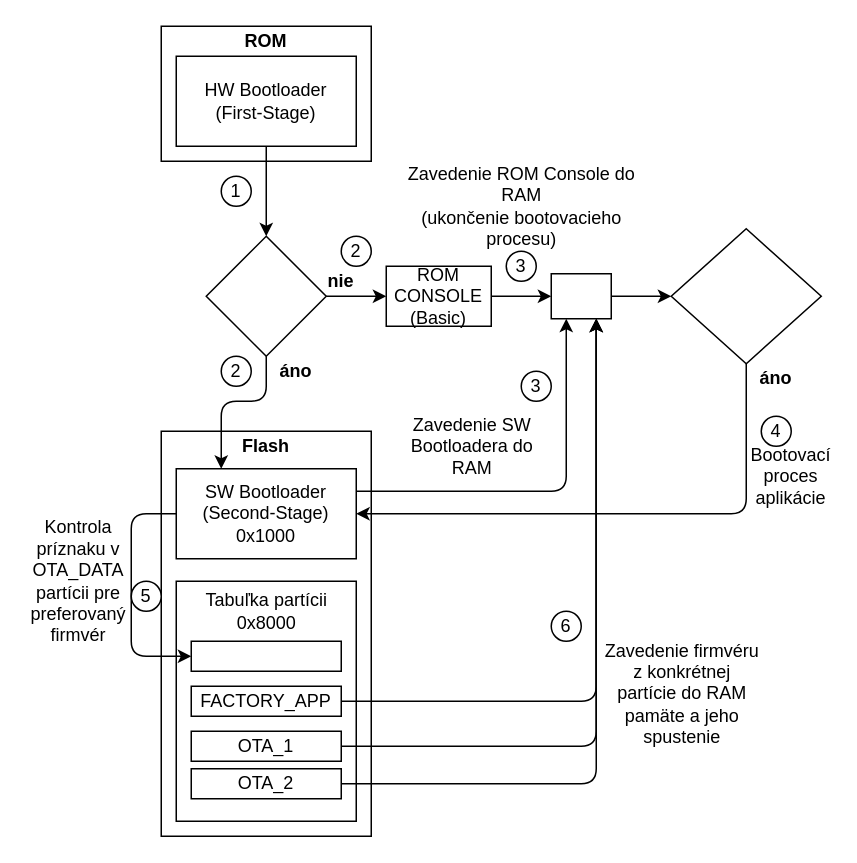
This 857x863 diagram has some shape labels left out. Each missing label, with the centre of its shape:
"Detekcia flash?" belongs at point 265,295.
"OTA_DATA" belongs at point 265,655.
"RAM" belongs at point 580,295.
"Spustený SW Bootloader?" belongs at point 745,295.
